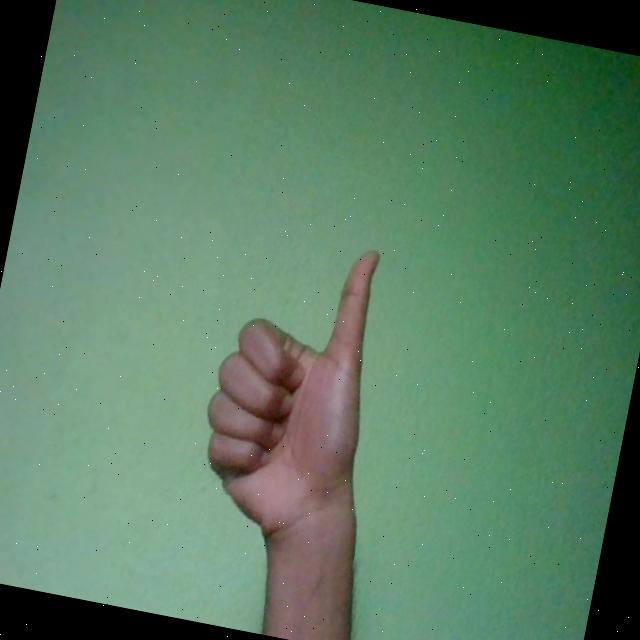Good Job: (186, 224, 397, 554)
